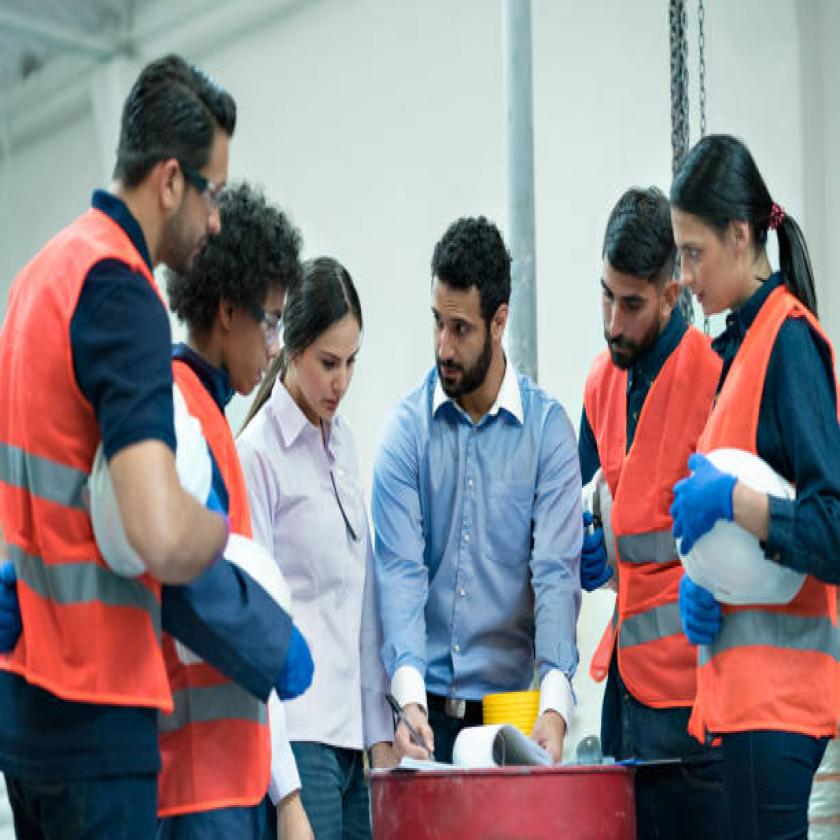Sin_casco: (89, 8, 235, 264), (668, 128, 831, 338), (174, 183, 288, 380), (424, 182, 519, 401), (590, 188, 682, 362), (280, 262, 366, 416)
